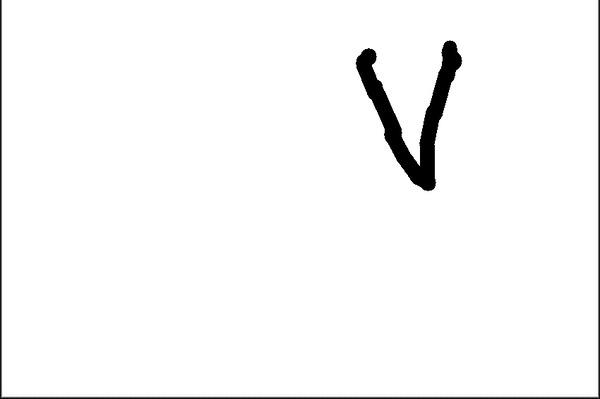V: (352, 30, 470, 196)
